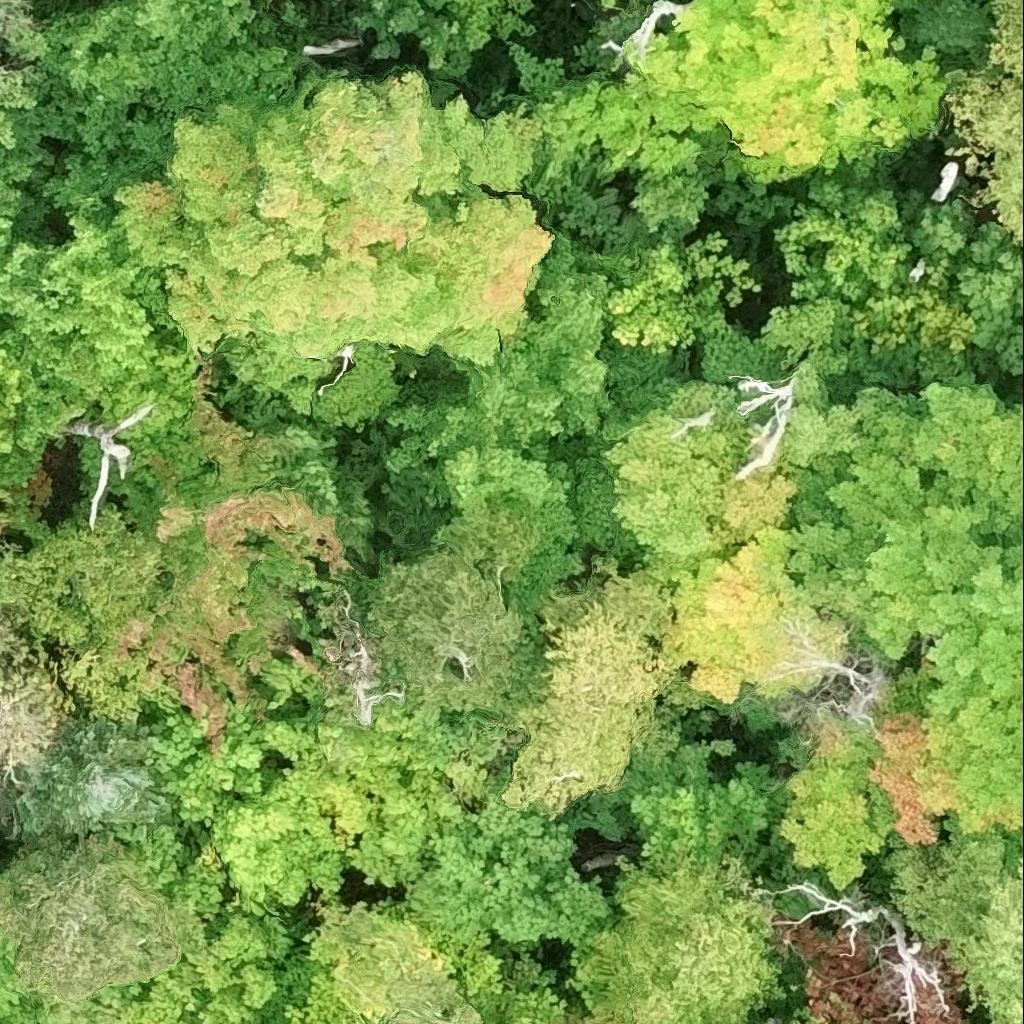crown: (111, 68, 555, 421), (386, 204, 613, 763), (550, 334, 861, 727), (100, 355, 372, 753), (116, 653, 487, 917), (785, 371, 1023, 718), (0, 184, 201, 531), (7, 0, 316, 210), (625, 0, 949, 182), (777, 149, 1023, 388), (566, 758, 785, 1023), (502, 555, 702, 819), (782, 669, 1023, 883), (397, 736, 621, 957), (512, 43, 770, 229), (522, 159, 759, 351), (338, 513, 539, 733), (87, 821, 291, 1023), (0, 829, 205, 1023), (12, 499, 167, 723), (892, 843, 1023, 1023), (788, 881, 949, 1023), (18, 718, 172, 838), (762, 615, 891, 731), (352, 0, 537, 75), (946, 64, 1023, 244), (317, 593, 413, 726), (0, 65, 82, 217), (0, 625, 76, 777), (62, 404, 153, 530), (733, 368, 803, 482), (392, 973, 476, 1023), (985, 0, 1023, 85), (0, 543, 53, 600), (733, 368, 803, 405), (0, 513, 12, 535), (787, 1015, 816, 1023), (601, 0, 620, 12), (0, 489, 14, 505), (881, 0, 910, 6), (766, 1019, 777, 1023), (262, 0, 275, 3)
